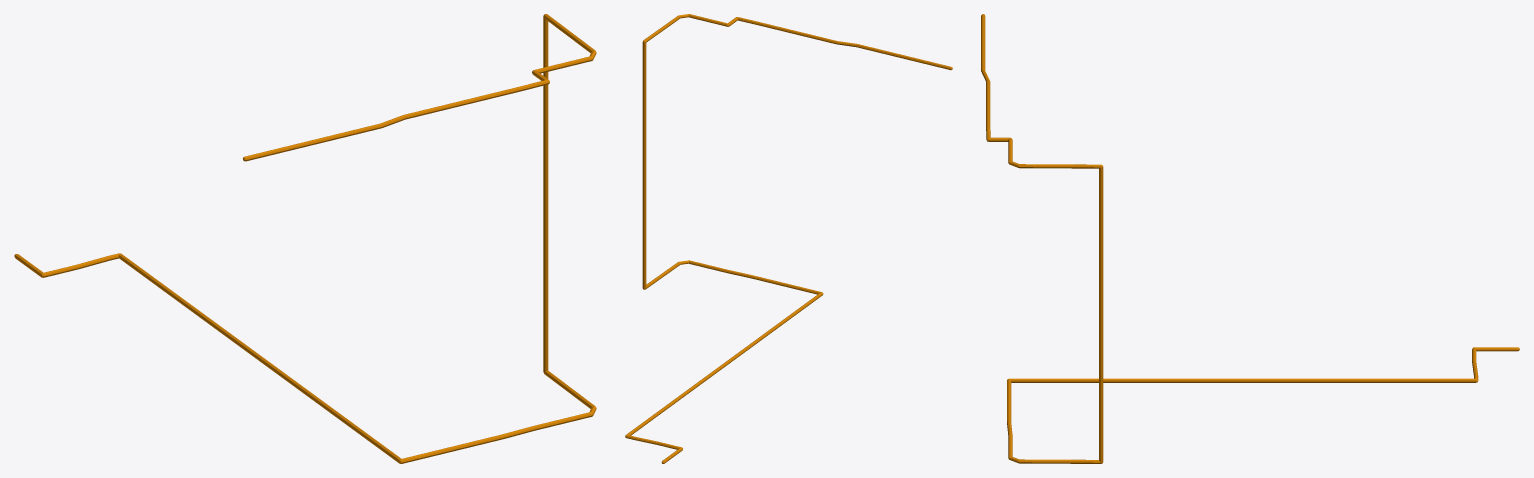
3 renders of one model, left to right at view 1: azimuth 30°, elevation 25°; view 2: azimuth 150°, elevation 25°; view 3: azimuth 270°, elevation 25°, orthographic. The views are drawn at different scales.
Bounding box in the file's own units: 1660 × 1520 × 2481.
